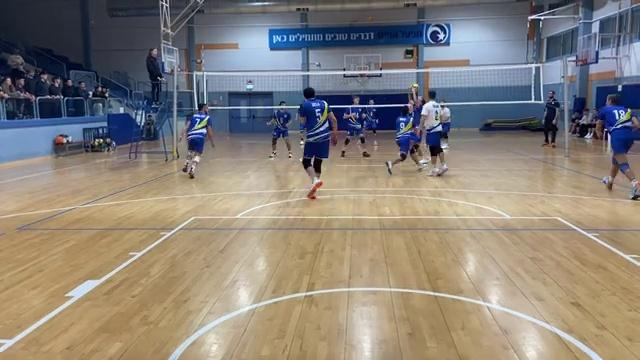ball: (409, 81, 425, 93)
